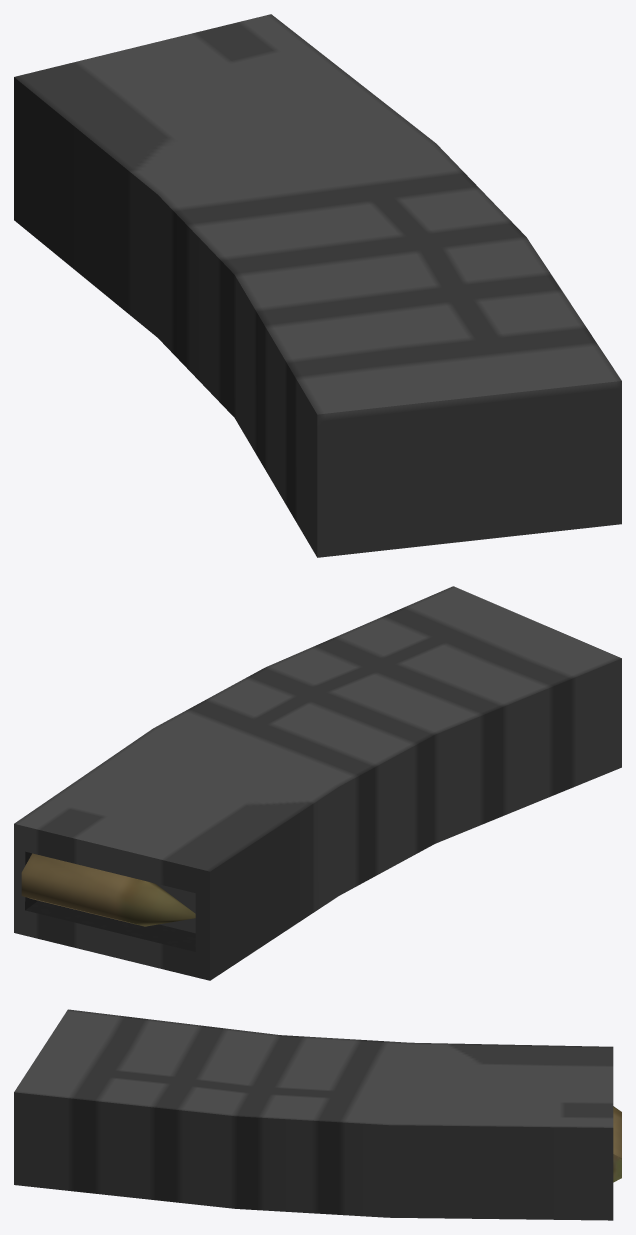
Rendered from Magazines_Extended_Base_0_Mod.FBX.
The picture shows the model from 3 angles, top to bottom: view 1: azimuth 30°, elevation 25°; view 2: azimuth 150°, elevation 25°; view 3: azimuth 270°, elevation 25°; orthographic projection. The views are drawn at different scales.
Visible parts, largest first — view 1: Magazines_Extended_Base_0_Mod; view 2: Magazines_Extended_Base_0_Mod; view 3: Magazines_Extended_Base_0_Mod.
Part boxes in pixels (x1,y1,x2,y2): Magazines_Extended_Base_0_Mod: (14,14,621,557); Magazines_Extended_Base_0_Mod: (14,586,621,980); Magazines_Extended_Base_0_Mod: (14,1009,621,1220).
Bounding box in the file's own units: 14.06 × 5.12 × 30.46.
